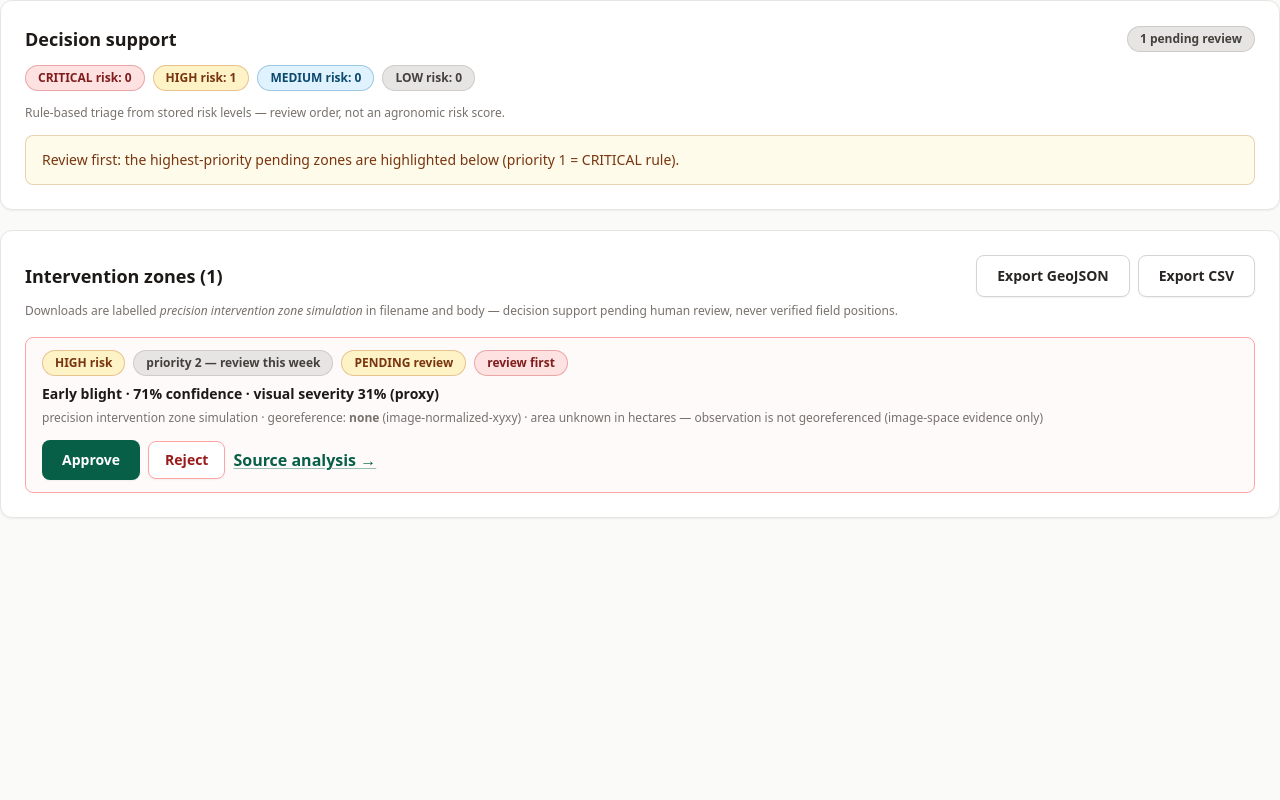
ZonesPanel (honesty surface) › surfaces a review failure instead of pretending
Click the button "Reject". click: (187, 460)
box: [148,441,225,479]
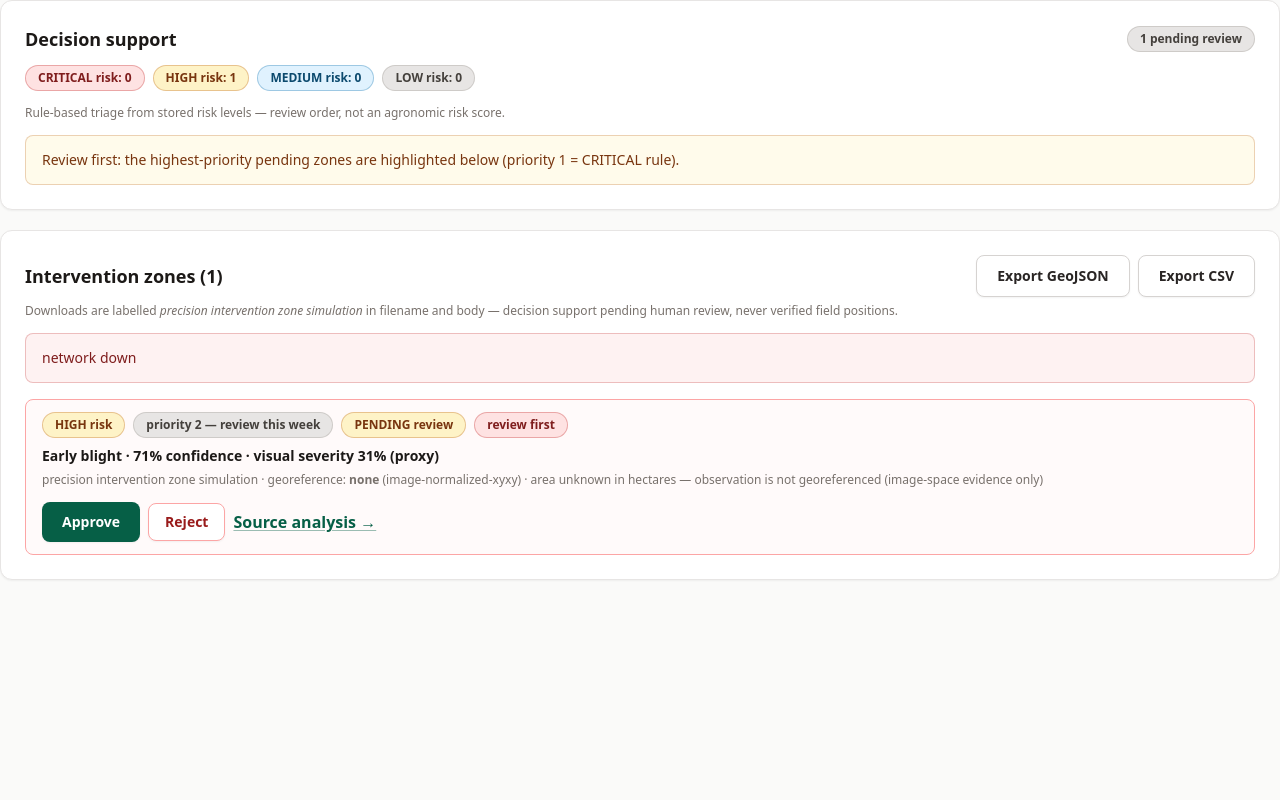
Check: the message reads "network down", box [42,348,136,367]
